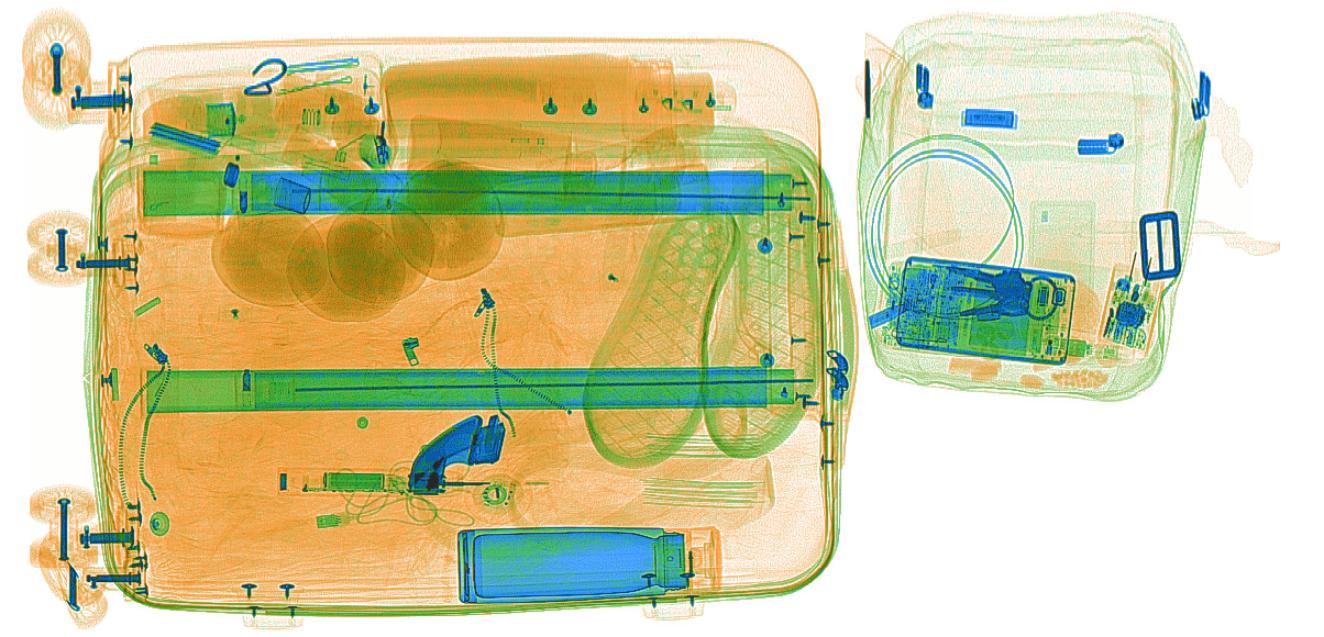battery: (322, 469, 387, 495)
plasticBottleWithaNozzle: (432, 117, 575, 162)
